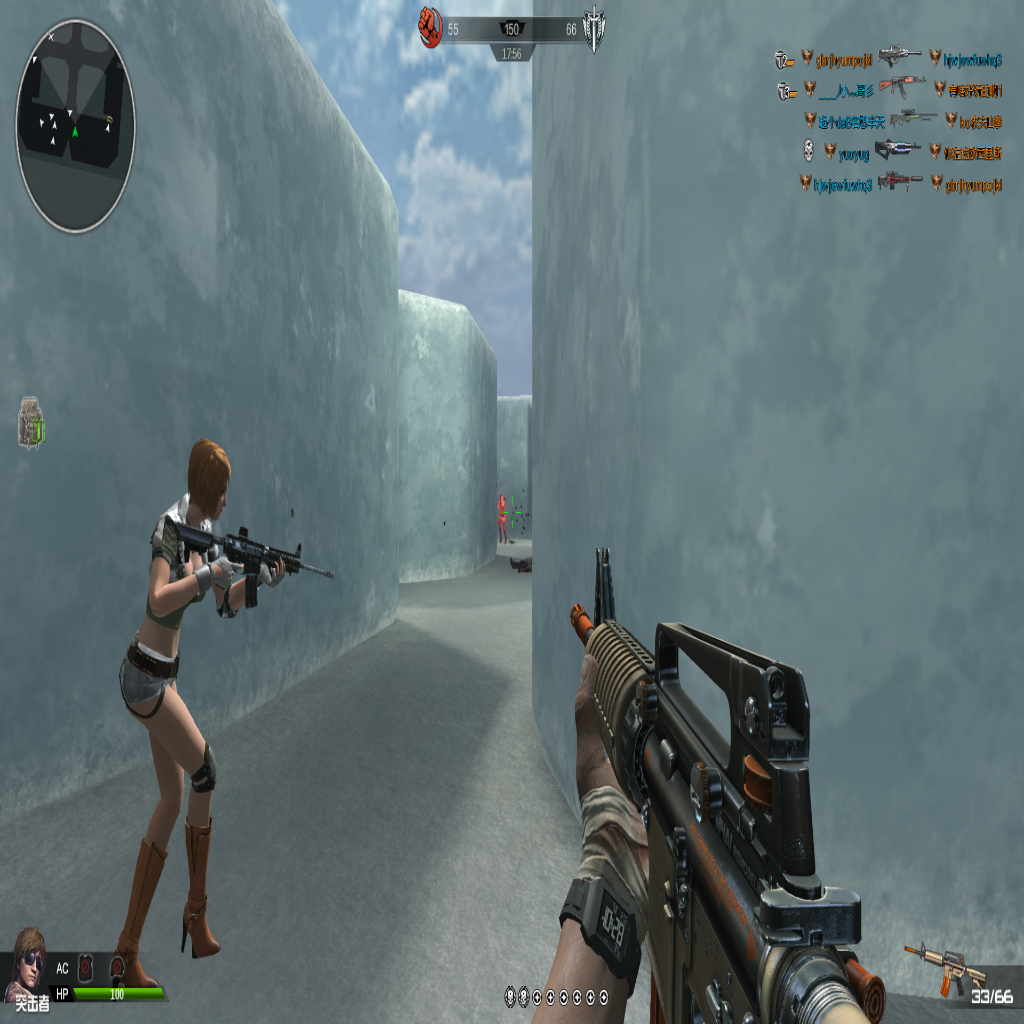ct: (497, 491, 507, 545)
